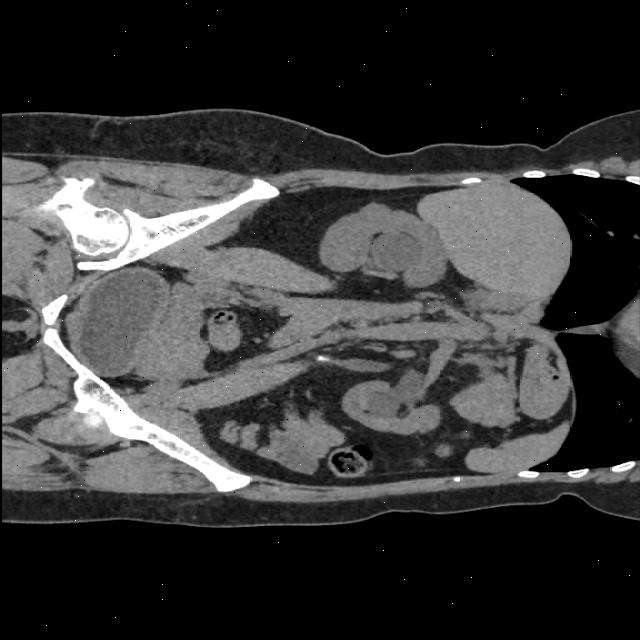kidneystone: (316, 355, 332, 362)
